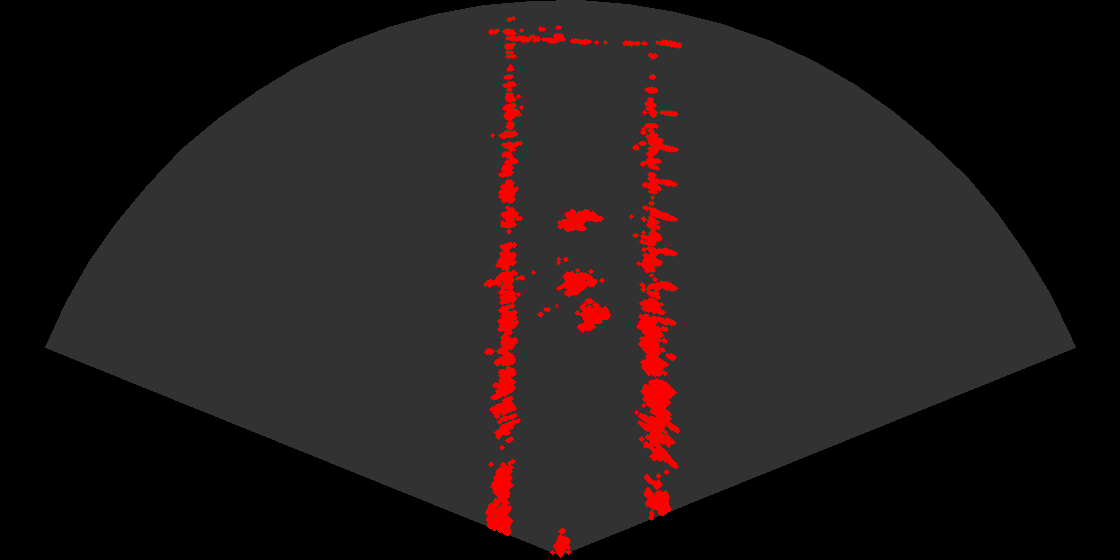AUV: (551, 207, 607, 239)
cage: (556, 257, 619, 341)
